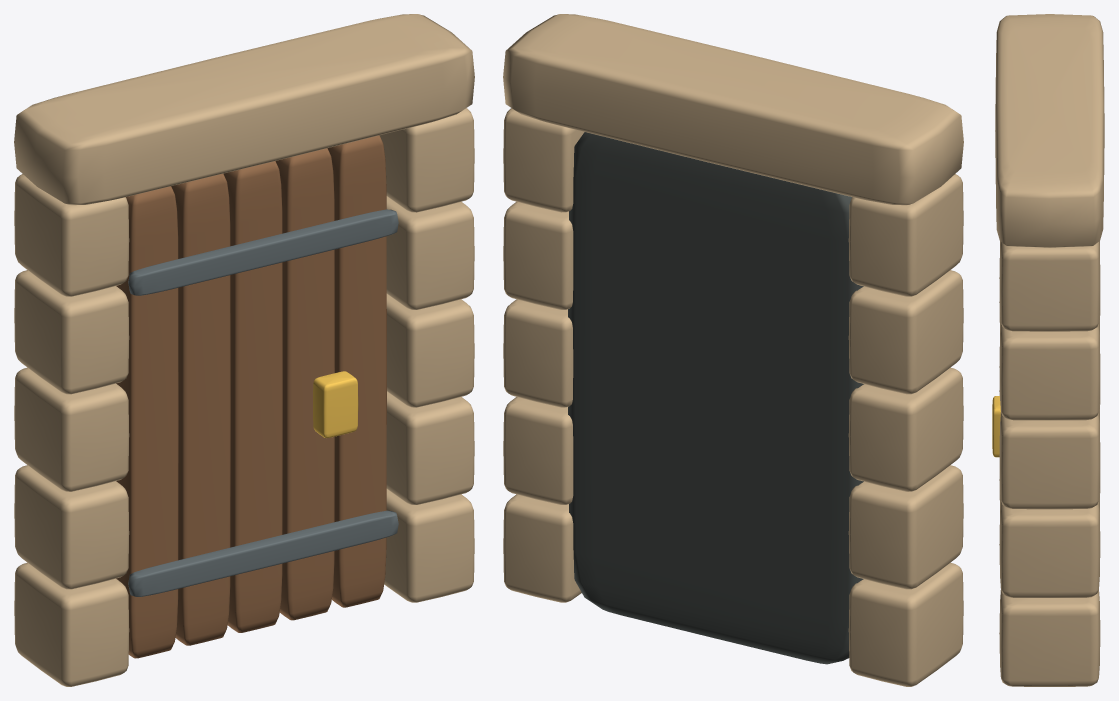
The model's file is door_closed.fbx.
3 views of the same model, side by side, from view 1: azimuth 30°, elevation 25°; view 2: azimuth 150°, elevation 25°; view 3: azimuth 270°, elevation 25° (orthographic). The views are drawn at different scales.
Visible parts, largest first — view 1: door_closed_mesh; view 2: door_closed_mesh; view 3: door_closed_mesh.
Part boxes in pixels (x1,y1,x2,y2): door_closed_mesh: [14, 14, 474, 686]; door_closed_mesh: [503, 14, 963, 686]; door_closed_mesh: [992, 14, 1104, 686].
Size of the model in its own units: 1.53 by 1.92 by 0.39.
